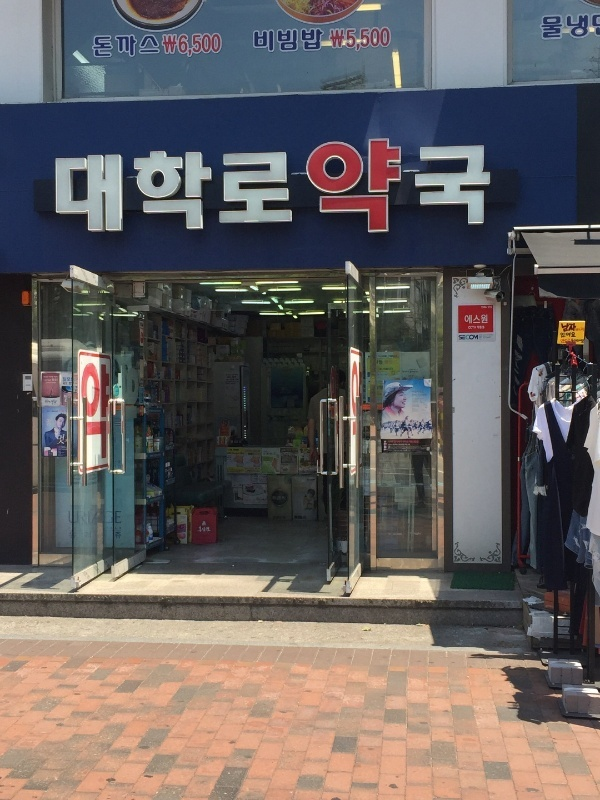text: (65, 139, 80, 243), (81, 139, 96, 243), (97, 139, 112, 243), (113, 139, 128, 243), (129, 139, 144, 243), (145, 139, 160, 243), (161, 139, 176, 243), (177, 139, 192, 243), (193, 139, 208, 243), (209, 139, 224, 243), (225, 139, 240, 243), (241, 139, 256, 243), (257, 139, 272, 243), (273, 139, 288, 243), (289, 139, 304, 243), (305, 139, 320, 243), (321, 139, 336, 243), (337, 139, 352, 243), (353, 139, 368, 243), (369, 139, 384, 243), (385, 139, 400, 243), (401, 139, 416, 243), (417, 139, 432, 243), (433, 139, 448, 243), (449, 139, 464, 243), (465, 139, 480, 243), (81, 361, 96, 464), (97, 361, 112, 464), (481, 139, 493, 243), (53, 139, 64, 243), (545, 12, 560, 43), (561, 12, 576, 43), (97, 32, 112, 60), (113, 32, 128, 60), (129, 32, 144, 60), (145, 32, 160, 60), (177, 32, 192, 58), (193, 32, 208, 58), (257, 29, 272, 55), (273, 29, 288, 55), (289, 29, 304, 55), (305, 29, 320, 55), (337, 26, 352, 51), (353, 26, 368, 51), (369, 26, 384, 51), (577, 12, 589, 43), (162, 32, 176, 58), (209, 32, 222, 58), (465, 314, 480, 326), (561, 321, 576, 333), (329, 26, 336, 51), (385, 26, 391, 51), (561, 331, 576, 340), (465, 334, 478, 342), (541, 12, 544, 43), (468, 324, 480, 331), (481, 314, 488, 326), (93, 32, 96, 60), (321, 29, 324, 55), (254, 29, 256, 55), (459, 334, 464, 342), (481, 325, 486, 331), (477, 325, 480, 331)
